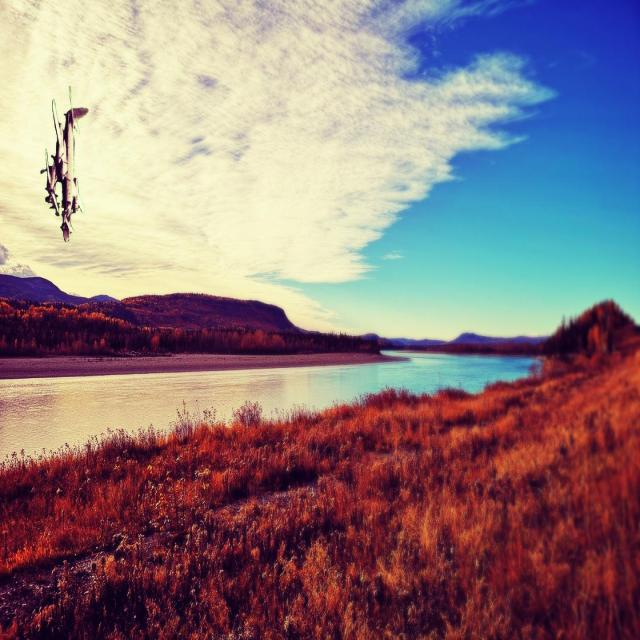airplane: (40, 91, 88, 242)
